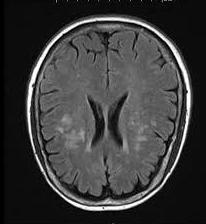Normal_Brain: (22, 7, 206, 224)
